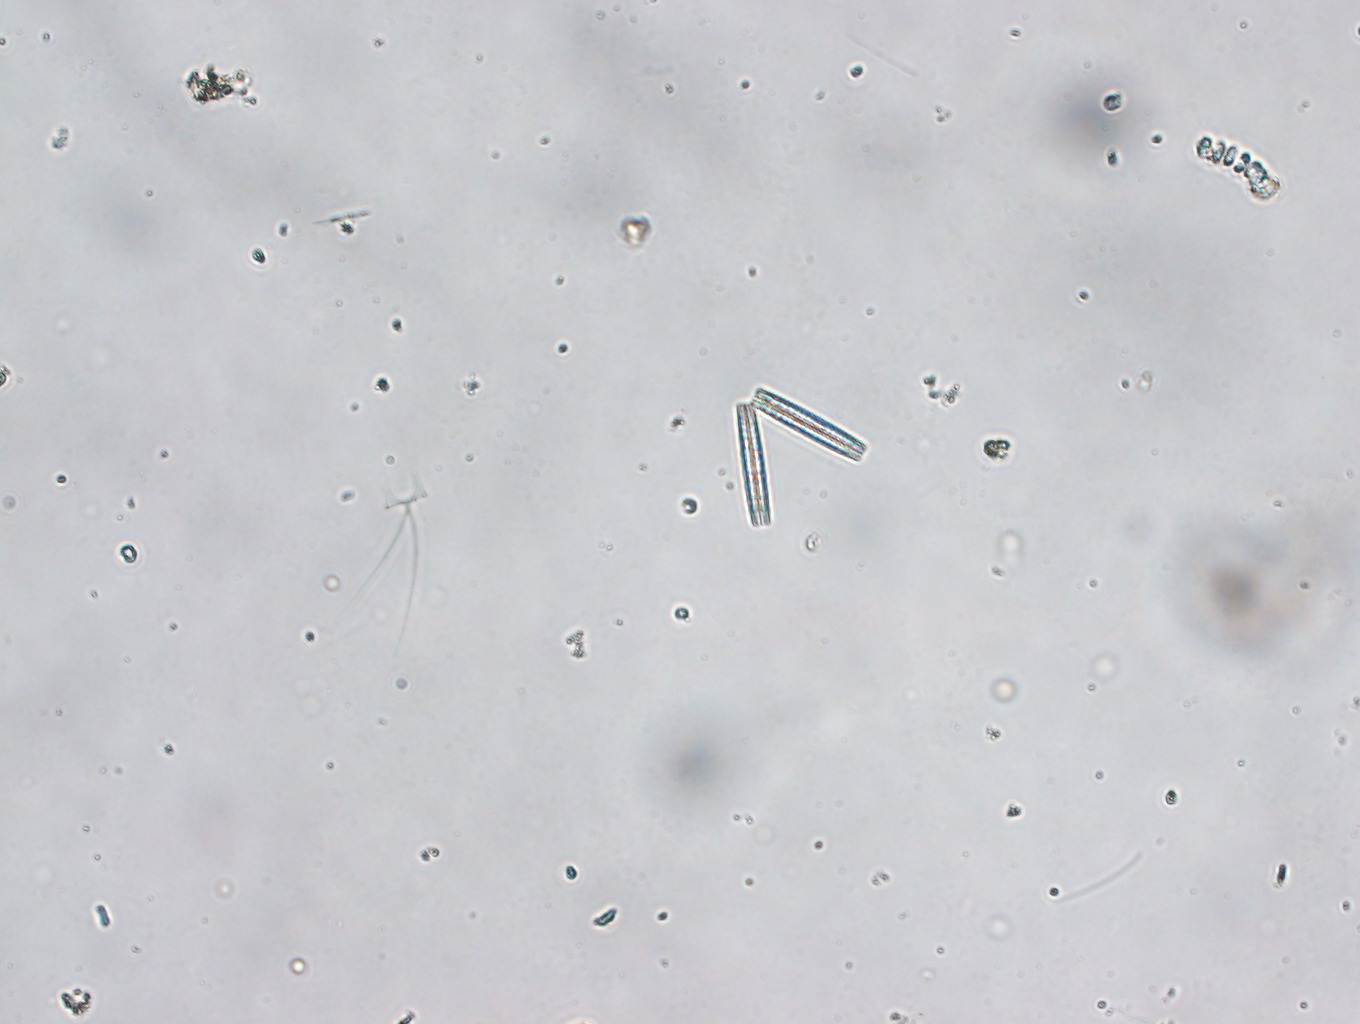skeletonema: (1194, 133, 1284, 201)
thalassionema nitzschioides: (734, 386, 868, 527)
